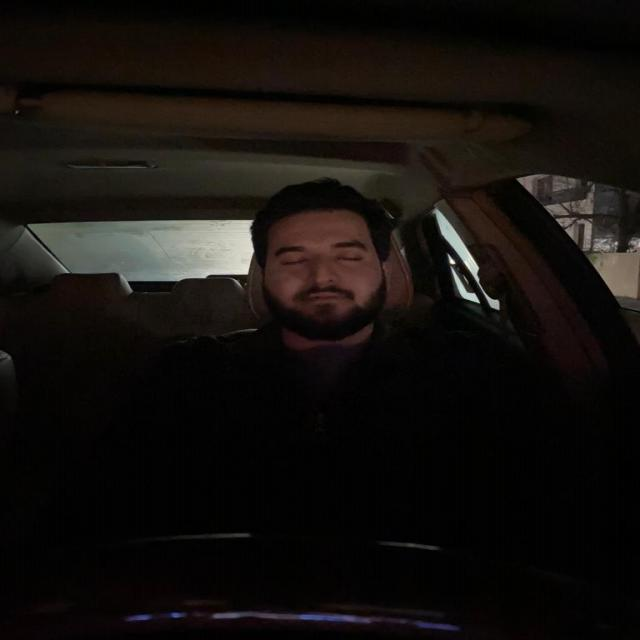drowsy: (244, 169, 406, 348)
